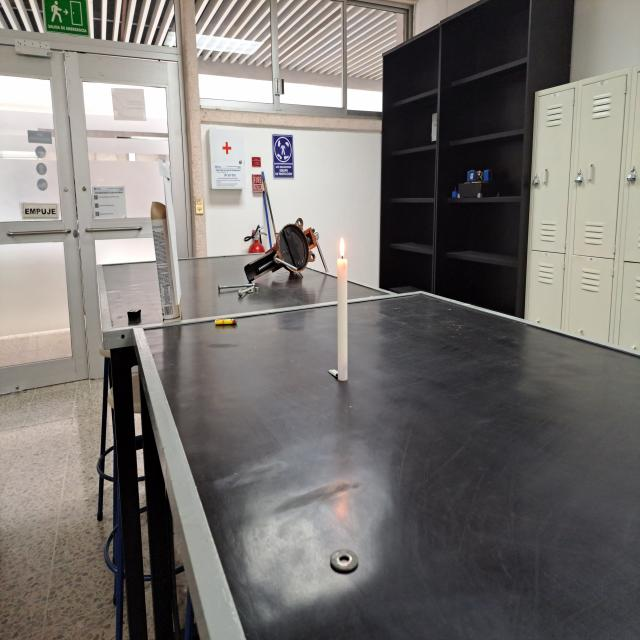candle: (334, 232, 352, 386)
wall: (164, 160, 192, 318)
